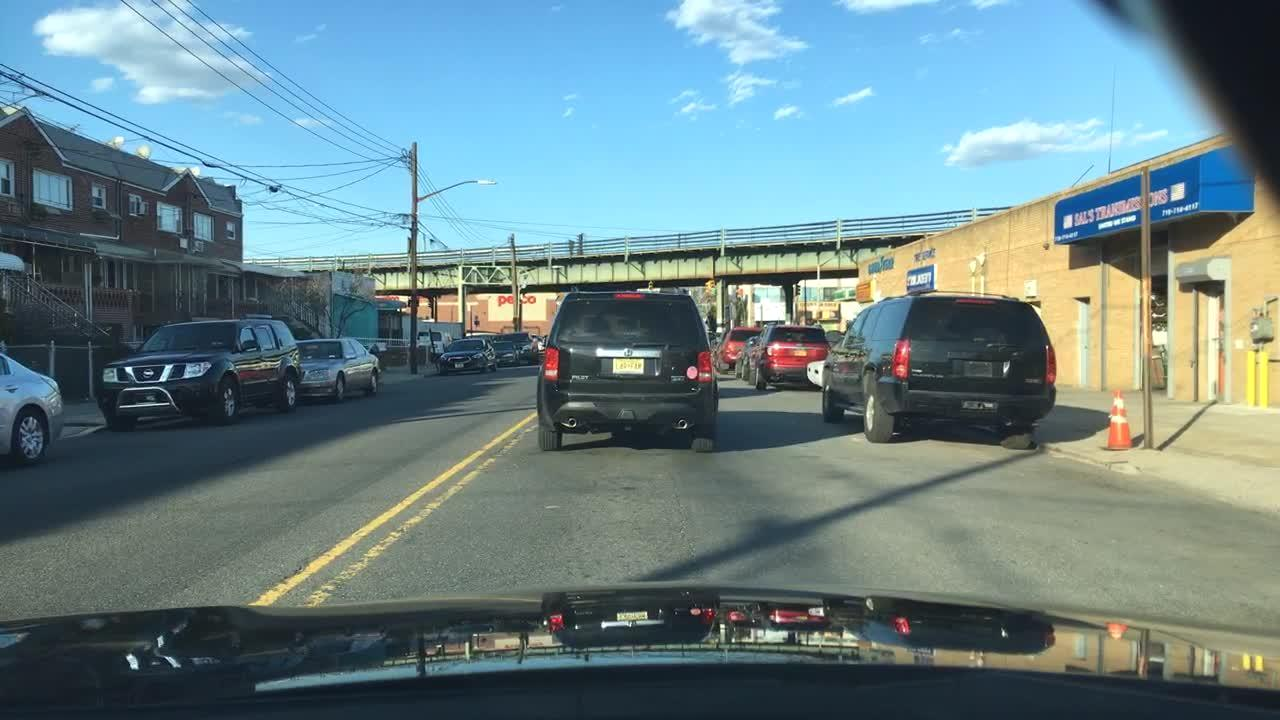Honda: (620, 346, 636, 362)
